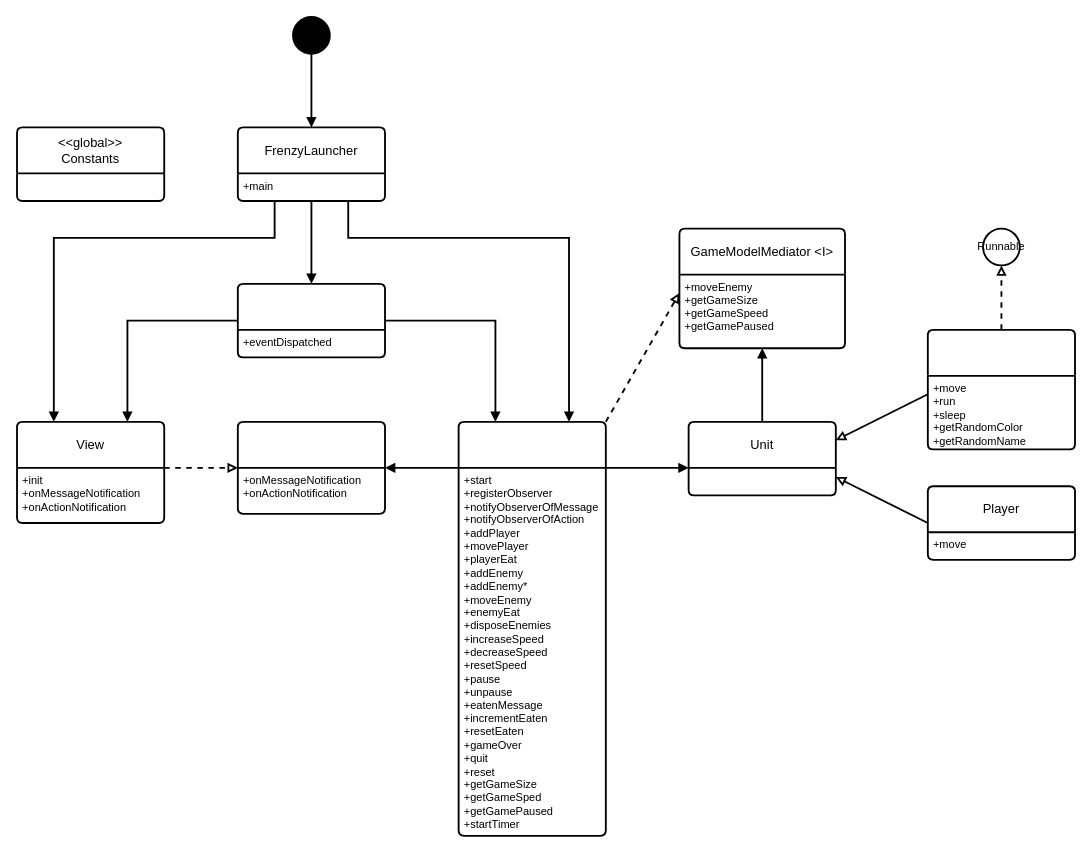
Image size: 1091x852. Some labels were removed from this diagram. The box of each missing label's shape, as (x1, y1, x2, y2) in pixels:
Enemy: (926, 328, 1075, 450)
Model: (457, 420, 606, 836)
UserController: (236, 282, 385, 358)
ViewObserver <I>: (236, 420, 385, 514)
